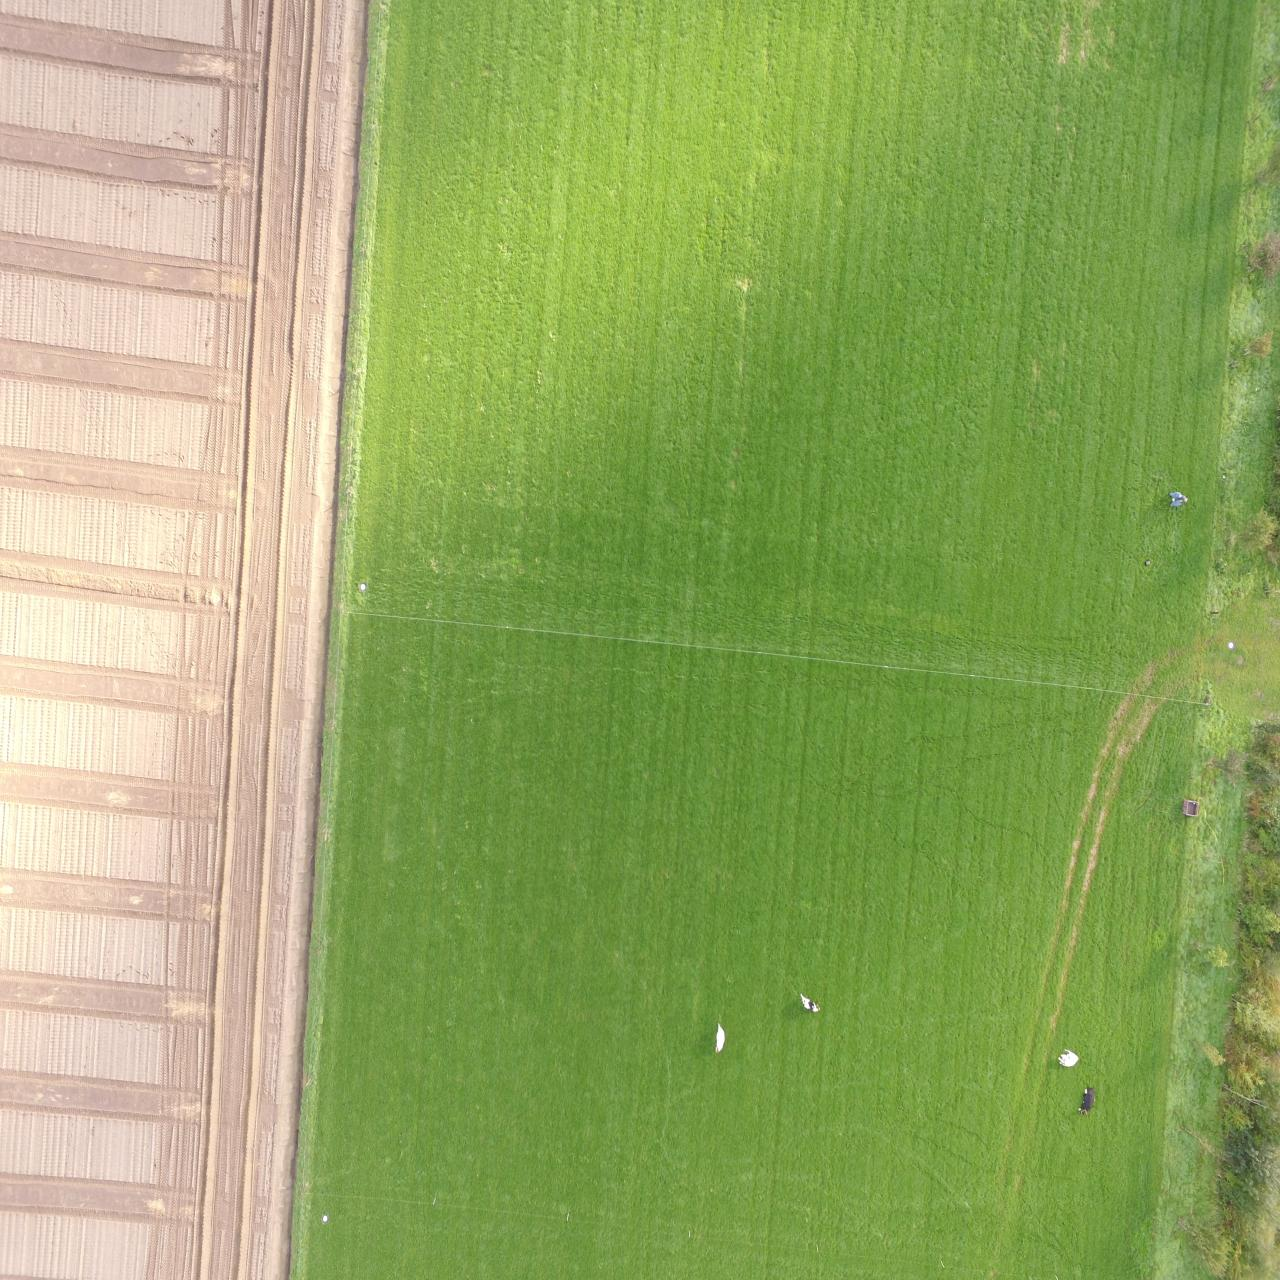cow: (1077, 1084, 1095, 1115), (798, 992, 821, 1015), (1056, 1048, 1078, 1069), (714, 1021, 726, 1054)
